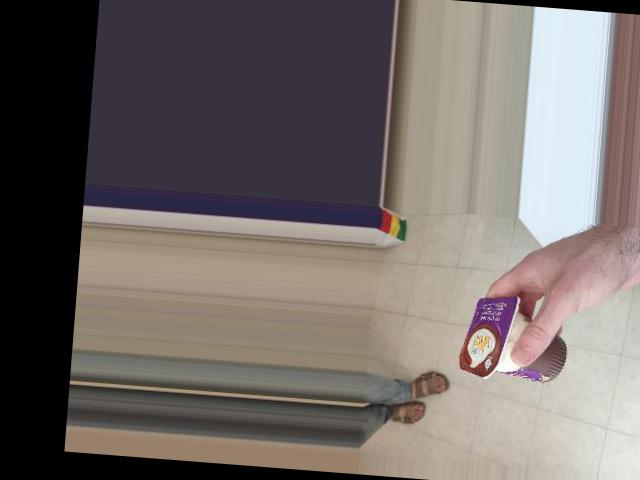milky: (456, 298, 573, 385)
